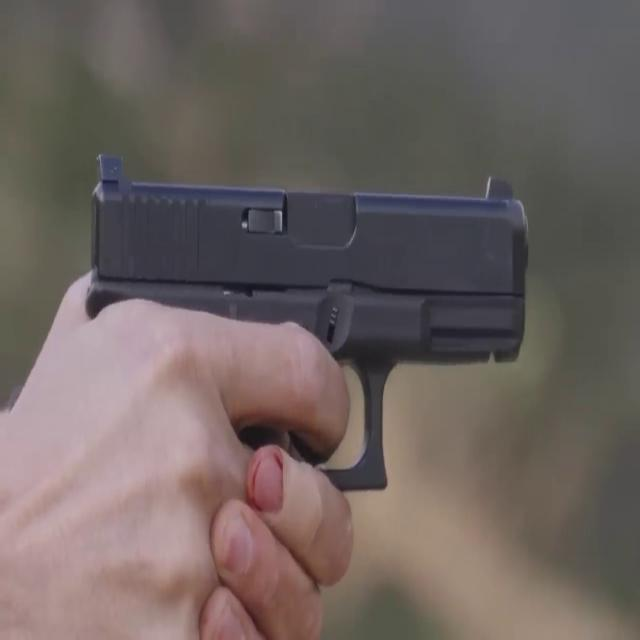Handgun: (58, 130, 544, 640)
